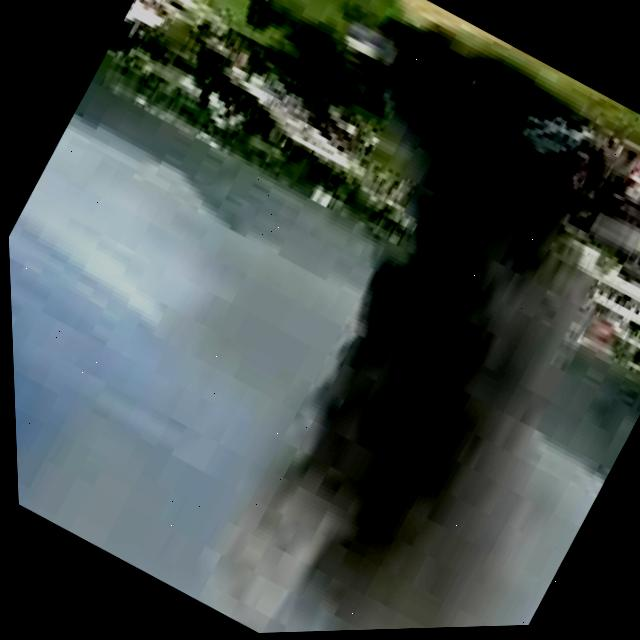Smoke: (88, 10, 640, 638)
